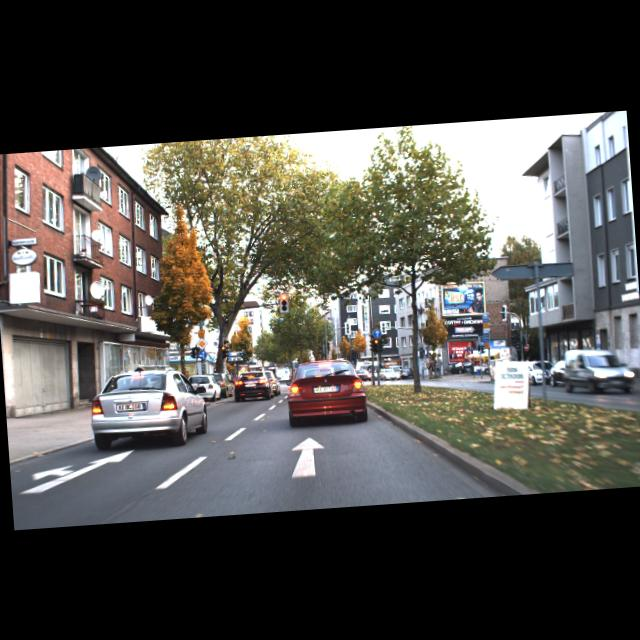mandatory: (198, 349, 208, 359), (372, 328, 382, 338)
other: (195, 337, 208, 350)
